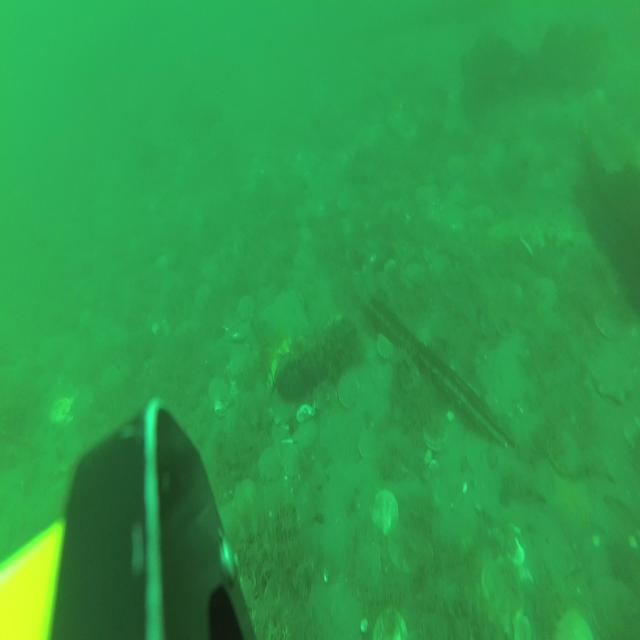scallop: (480, 552, 526, 623), (592, 339, 636, 404), (371, 490, 399, 541), (534, 270, 556, 314), (279, 436, 302, 478), (258, 446, 282, 485), (340, 369, 362, 411), (50, 395, 74, 431), (234, 478, 256, 517), (359, 429, 383, 464), (297, 420, 319, 450), (376, 333, 394, 366), (208, 376, 228, 404), (237, 294, 255, 324)
